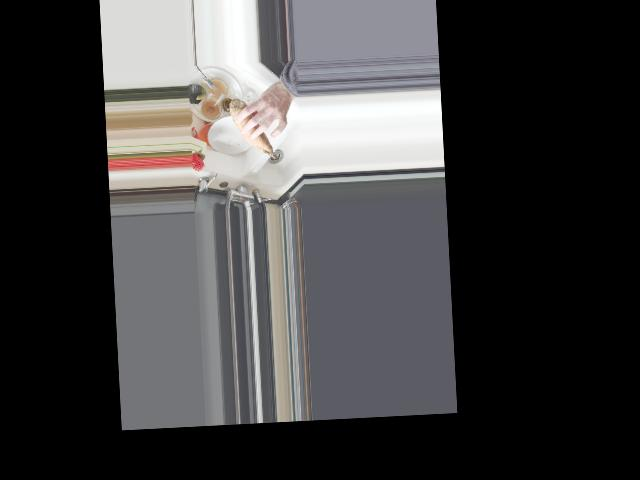sweet_potato: (228, 97, 276, 161)
